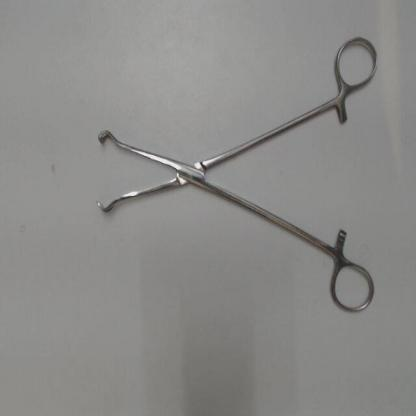8 Babcock Tissue Forceps: (91, 32, 386, 324)
